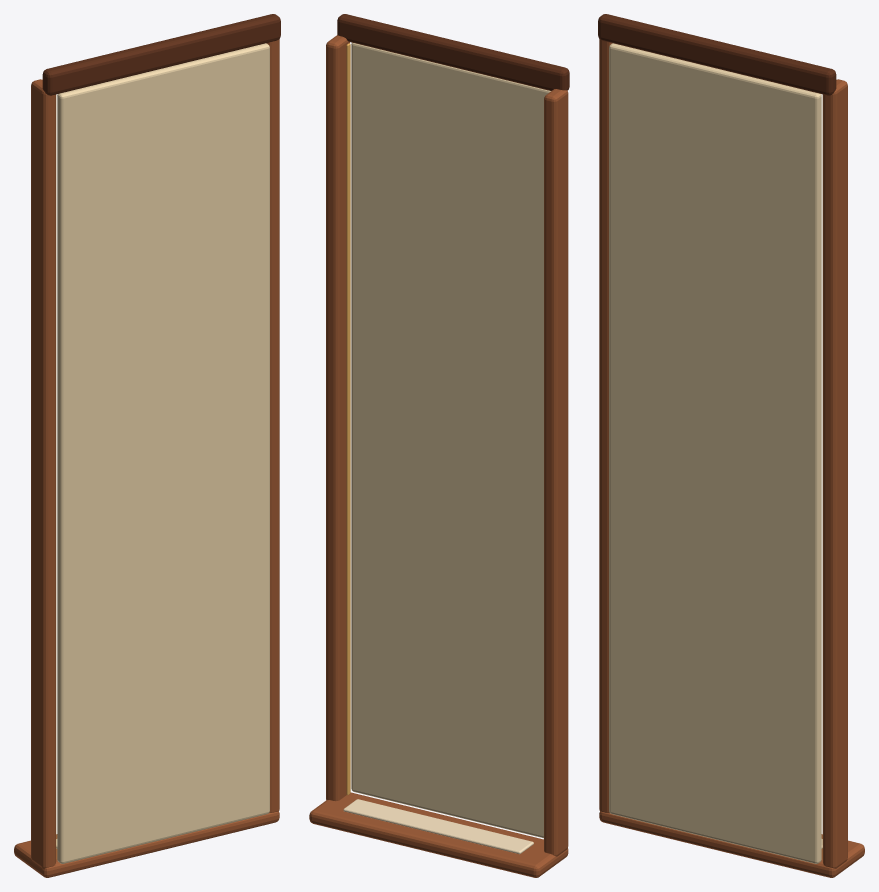
The model's file is lane-v5.glb.
3 renders of one model, left to right at view 1: azimuth 30°, elevation 25°; view 2: azimuth 150°, elevation 25°; view 3: azimuth 330°, elevation 25°, orthographic. The views are drawn at different scales.
Visible parts, largest first — view 1: LaneSurface, LeftRail, RightRail, Apron, FrontWall, LeftTrim; view 2: LaneSurface, LeftRail, RightRail, FrontWall, Apron, RightTrim, FrontInset; view 3: LaneSurface, RightRail, LeftRail, Apron, FrontWall, RightTrim.
Part boxes in pixels (x1,y1,x2,y2): LaneSurface: [57, 43, 269, 863]; LeftRail: [31, 79, 55, 868]; RightRail: [266, 39, 279, 812]; Apron: [42, 14, 280, 95]; FrontWall: [14, 811, 279, 877]; LeftTrim: [56, 94, 56, 859]; LaneSurface: [351, 42, 550, 838]; LeftRail: [544, 89, 568, 856]; RightRail: [326, 35, 349, 801]; FrontWall: [309, 792, 568, 877]; Apron: [337, 14, 569, 90]; RightTrim: [346, 43, 350, 795]; FrontInset: [343, 799, 533, 854]; LaneSurface: [609, 43, 821, 863]; RightRail: [823, 79, 847, 868]; LeftRail: [599, 39, 612, 812]; Apron: [598, 14, 836, 95]; FrontWall: [599, 811, 864, 877]; RightTrim: [822, 94, 822, 859].
Bounding box in the file's own units: 6.32 × 20.58 × 1.65.
